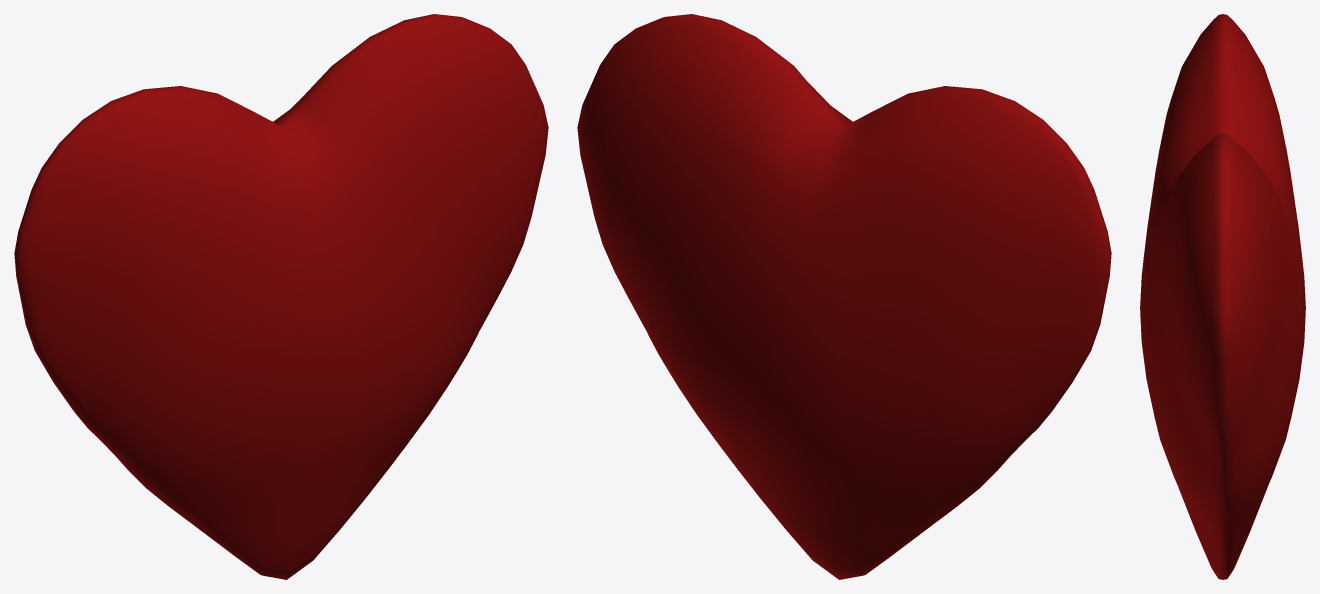
The model's file is Heart.FBX.
3 views of the same model, side by side, from view 1: azimuth 30°, elevation 25°; view 2: azimuth 150°, elevation 25°; view 3: azimuth 270°, elevation 25° (orthographic). The views are drawn at different scales.
Visible parts, largest first — view 1: Plane002; view 2: Plane002; view 3: Plane002.
Part boxes in pixels (x1,y1,x2,y2): Plane002: [14, 14, 548, 579]; Plane002: [577, 14, 1111, 579]; Plane002: [1140, 14, 1305, 579].
Bounding box in the file's own units: 3.5 × 3.33 × 1.01.
